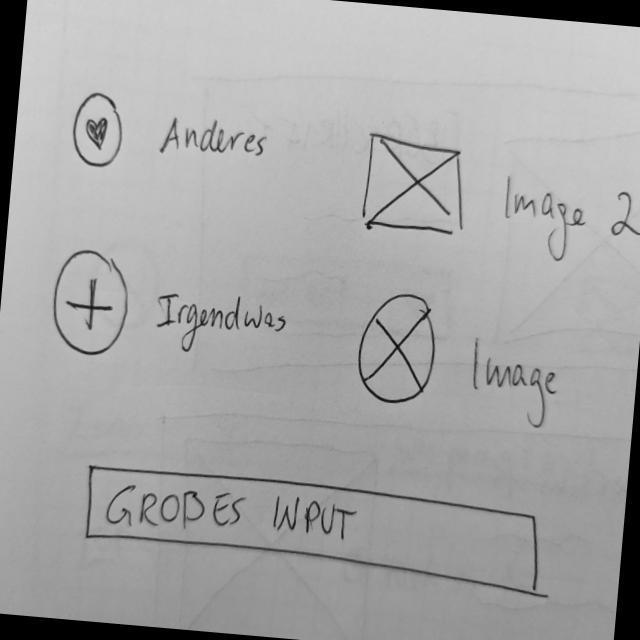icon-button: (49, 246, 138, 362), (69, 87, 130, 172)
image: (361, 127, 474, 240), (350, 287, 443, 407)
input: (79, 459, 553, 600)
label: (494, 169, 640, 272), (151, 288, 293, 365), (461, 330, 563, 433), (156, 111, 269, 168)
